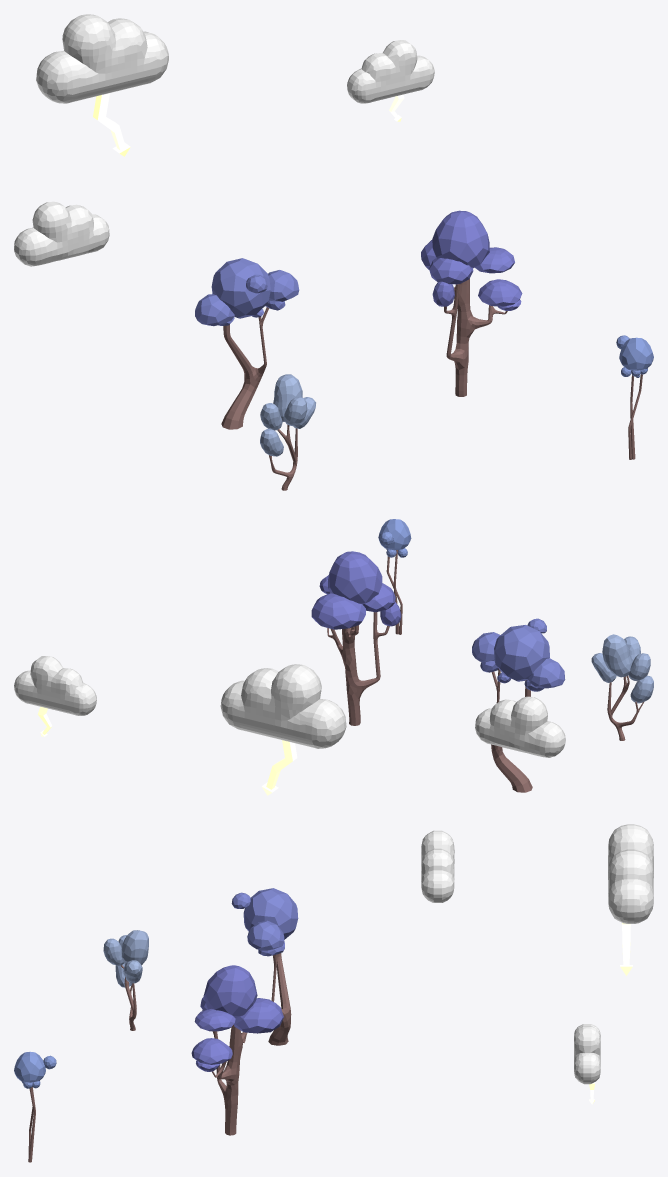
File: trees_and_clouds.glb
The picture shows the model from 3 angles, top to bottom: view 1: azimuth 30°, elevation 25°; view 2: azimuth 150°, elevation 25°; view 3: azimuth 270°, elevation 25°; orthographic projection. The views are drawn at different scales.
Parts seen in each view (by area): view 1: cloud_02, tree_04, tree_02, cloud_01, cloud_03, tree_01, tree_03; view 2: cloud_02, tree_04, tree_02, cloud_01, cloud_03, tree_01, tree_03; view 3: tree_04, cloud_02, tree_02, cloud_01, tree_01, cloud_03, tree_03.
Boxes of the visible parts, x1,y1,x2,y2 form: cloud_02: (36,14,168,156); tree_04: (421,210,522,396); tree_02: (195,258,299,429); cloud_01: (14,201,109,266); cloud_03: (347,40,434,121); tree_01: (260,374,315,490); tree_03: (616,335,653,459); cloud_02: (220,664,346,795); tree_04: (311,551,401,725); tree_02: (472,618,565,792); cloud_01: (475,696,565,757); cloud_03: (14,656,96,736); tree_01: (591,634,653,740); tree_03: (378,519,411,634); tree_04: (191,965,283,1135); cloud_02: (608,824,653,975); tree_02: (231,888,298,1045); cloud_01: (421,830,454,902); tree_01: (103,930,148,1030); cloud_03: (574,1024,600,1104); tree_03: (14,1051,56,1162).
Size of the model in its own units: 5.39 by 2.66 by 6.52.
